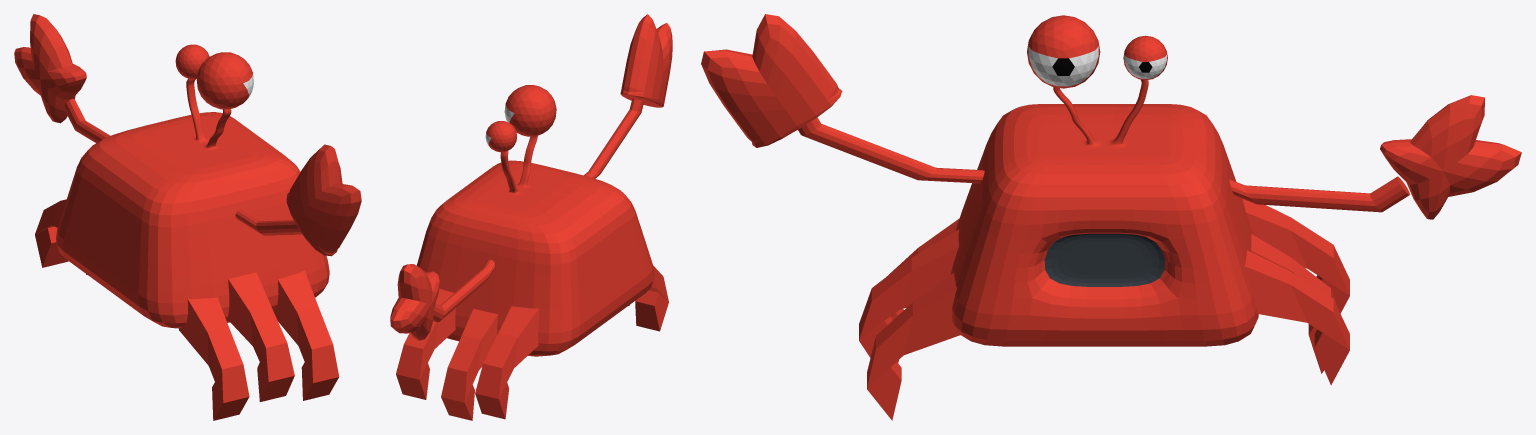
File: CrabAnimated.fbx
The picture shows the model from 3 angles, left to right: view 1: azimuth 30°, elevation 25°; view 2: azimuth 150°, elevation 25°; view 3: azimuth 270°, elevation 25°; orthographic projection. The views are drawn at different scales.
Parts seen in each view (by area): view 1: Body, Claw2, mid-right, front-right, back-right, Claw1, Eye-right, back-left, Cylinder.002, Eye-left, Cylinder.003; view 2: Body, back-left, Claw2, Mid-left, Claw1, front-left, Eye-right, back-right, Cylinder.002, Cylinder.003, Eye-left; view 3: Body, Claw2, Claw1, front-left, front-right, mid-right, Eye-right, back-left, Cylinder.003, Cylinder.002, Eye-left, Mid-left.
Boxes of the visible parts, x1,y1,x2,y2 form: Body: [56, 78, 329, 328]; Claw2: [286, 144, 361, 256]; mid-right: [227, 272, 294, 401]; front-right: [274, 270, 339, 400]; back-right: [179, 297, 249, 420]; Claw1: [14, 14, 86, 123]; Eye-right: [196, 52, 253, 109]; back-left: [35, 199, 68, 267]; Cylinder.002: [235, 209, 302, 235]; Eye-left: [175, 44, 209, 79]; Cylinder.003: [63, 99, 110, 143]; Body: [417, 135, 654, 356]; back-left: [475, 306, 539, 419]; Claw2: [620, 14, 672, 107]; Mid-left: [441, 308, 497, 420]; Claw1: [390, 264, 439, 340]; front-left: [396, 288, 455, 399]; Eye-right: [504, 85, 556, 136]; back-right: [635, 266, 668, 331]; Cylinder.002: [584, 98, 643, 178]; Cylinder.003: [433, 259, 494, 322]; Eye-left: [485, 121, 516, 152]; Body: [951, 79, 1258, 346]; Claw2: [701, 14, 842, 147]; Claw1: [1380, 95, 1521, 219]; front-left: [1244, 250, 1349, 385]; front-right: [867, 273, 960, 420]; mid-right: [859, 229, 959, 357]; Eye-right: [1027, 15, 1100, 88]; back-left: [1242, 199, 1349, 313]; Cylinder.003: [1229, 176, 1409, 212]; Cylinder.002: [798, 117, 984, 183]; Eye-left: [1123, 35, 1167, 80]; Mid-left: [1251, 234, 1337, 373].
Bounding box in the file's own units: 145 × 229 × 448.
